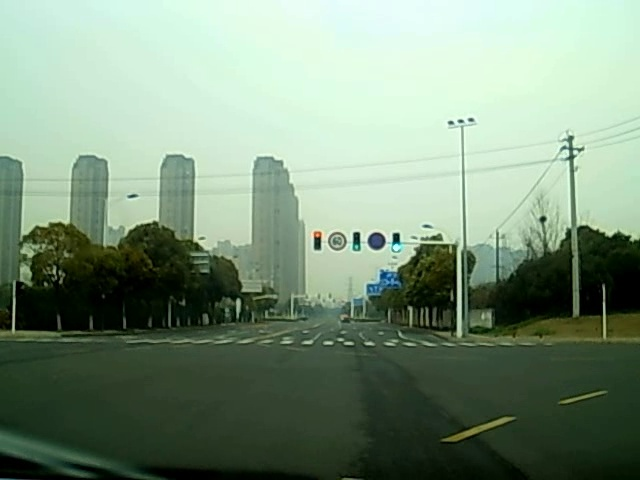Traffic_Light_go: (351, 230, 360, 254), (391, 233, 400, 254)
Traffic_Light_stop: (312, 232, 322, 255)
